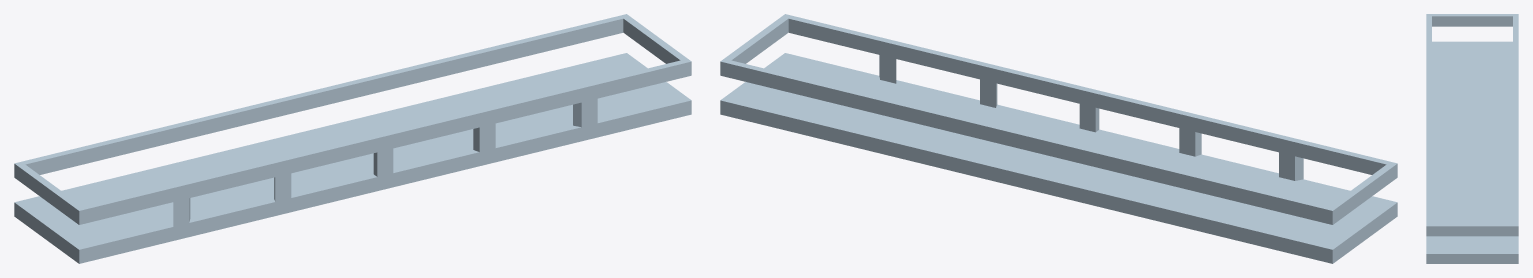
Rendered from SM_Balcon_1.fbx.
3 renders of one model, left to right at view 1: azimuth 30°, elevation 25°; view 2: azimuth 150°, elevation 25°; view 3: azimuth 270°, elevation 25°, orthographic. The views are drawn at different scales.
Visible parts, largest first — view 1: Cube.008; view 2: Cube.008; view 3: Cube.008.
Boxes of the visible parts, x1,y1,x2,y2 form: Cube.008: (14,14,691,263); Cube.008: (720,14,1397,263); Cube.008: (1426,14,1518,263).
Size of the model in its own units: 911 by 75.32 by 167.
